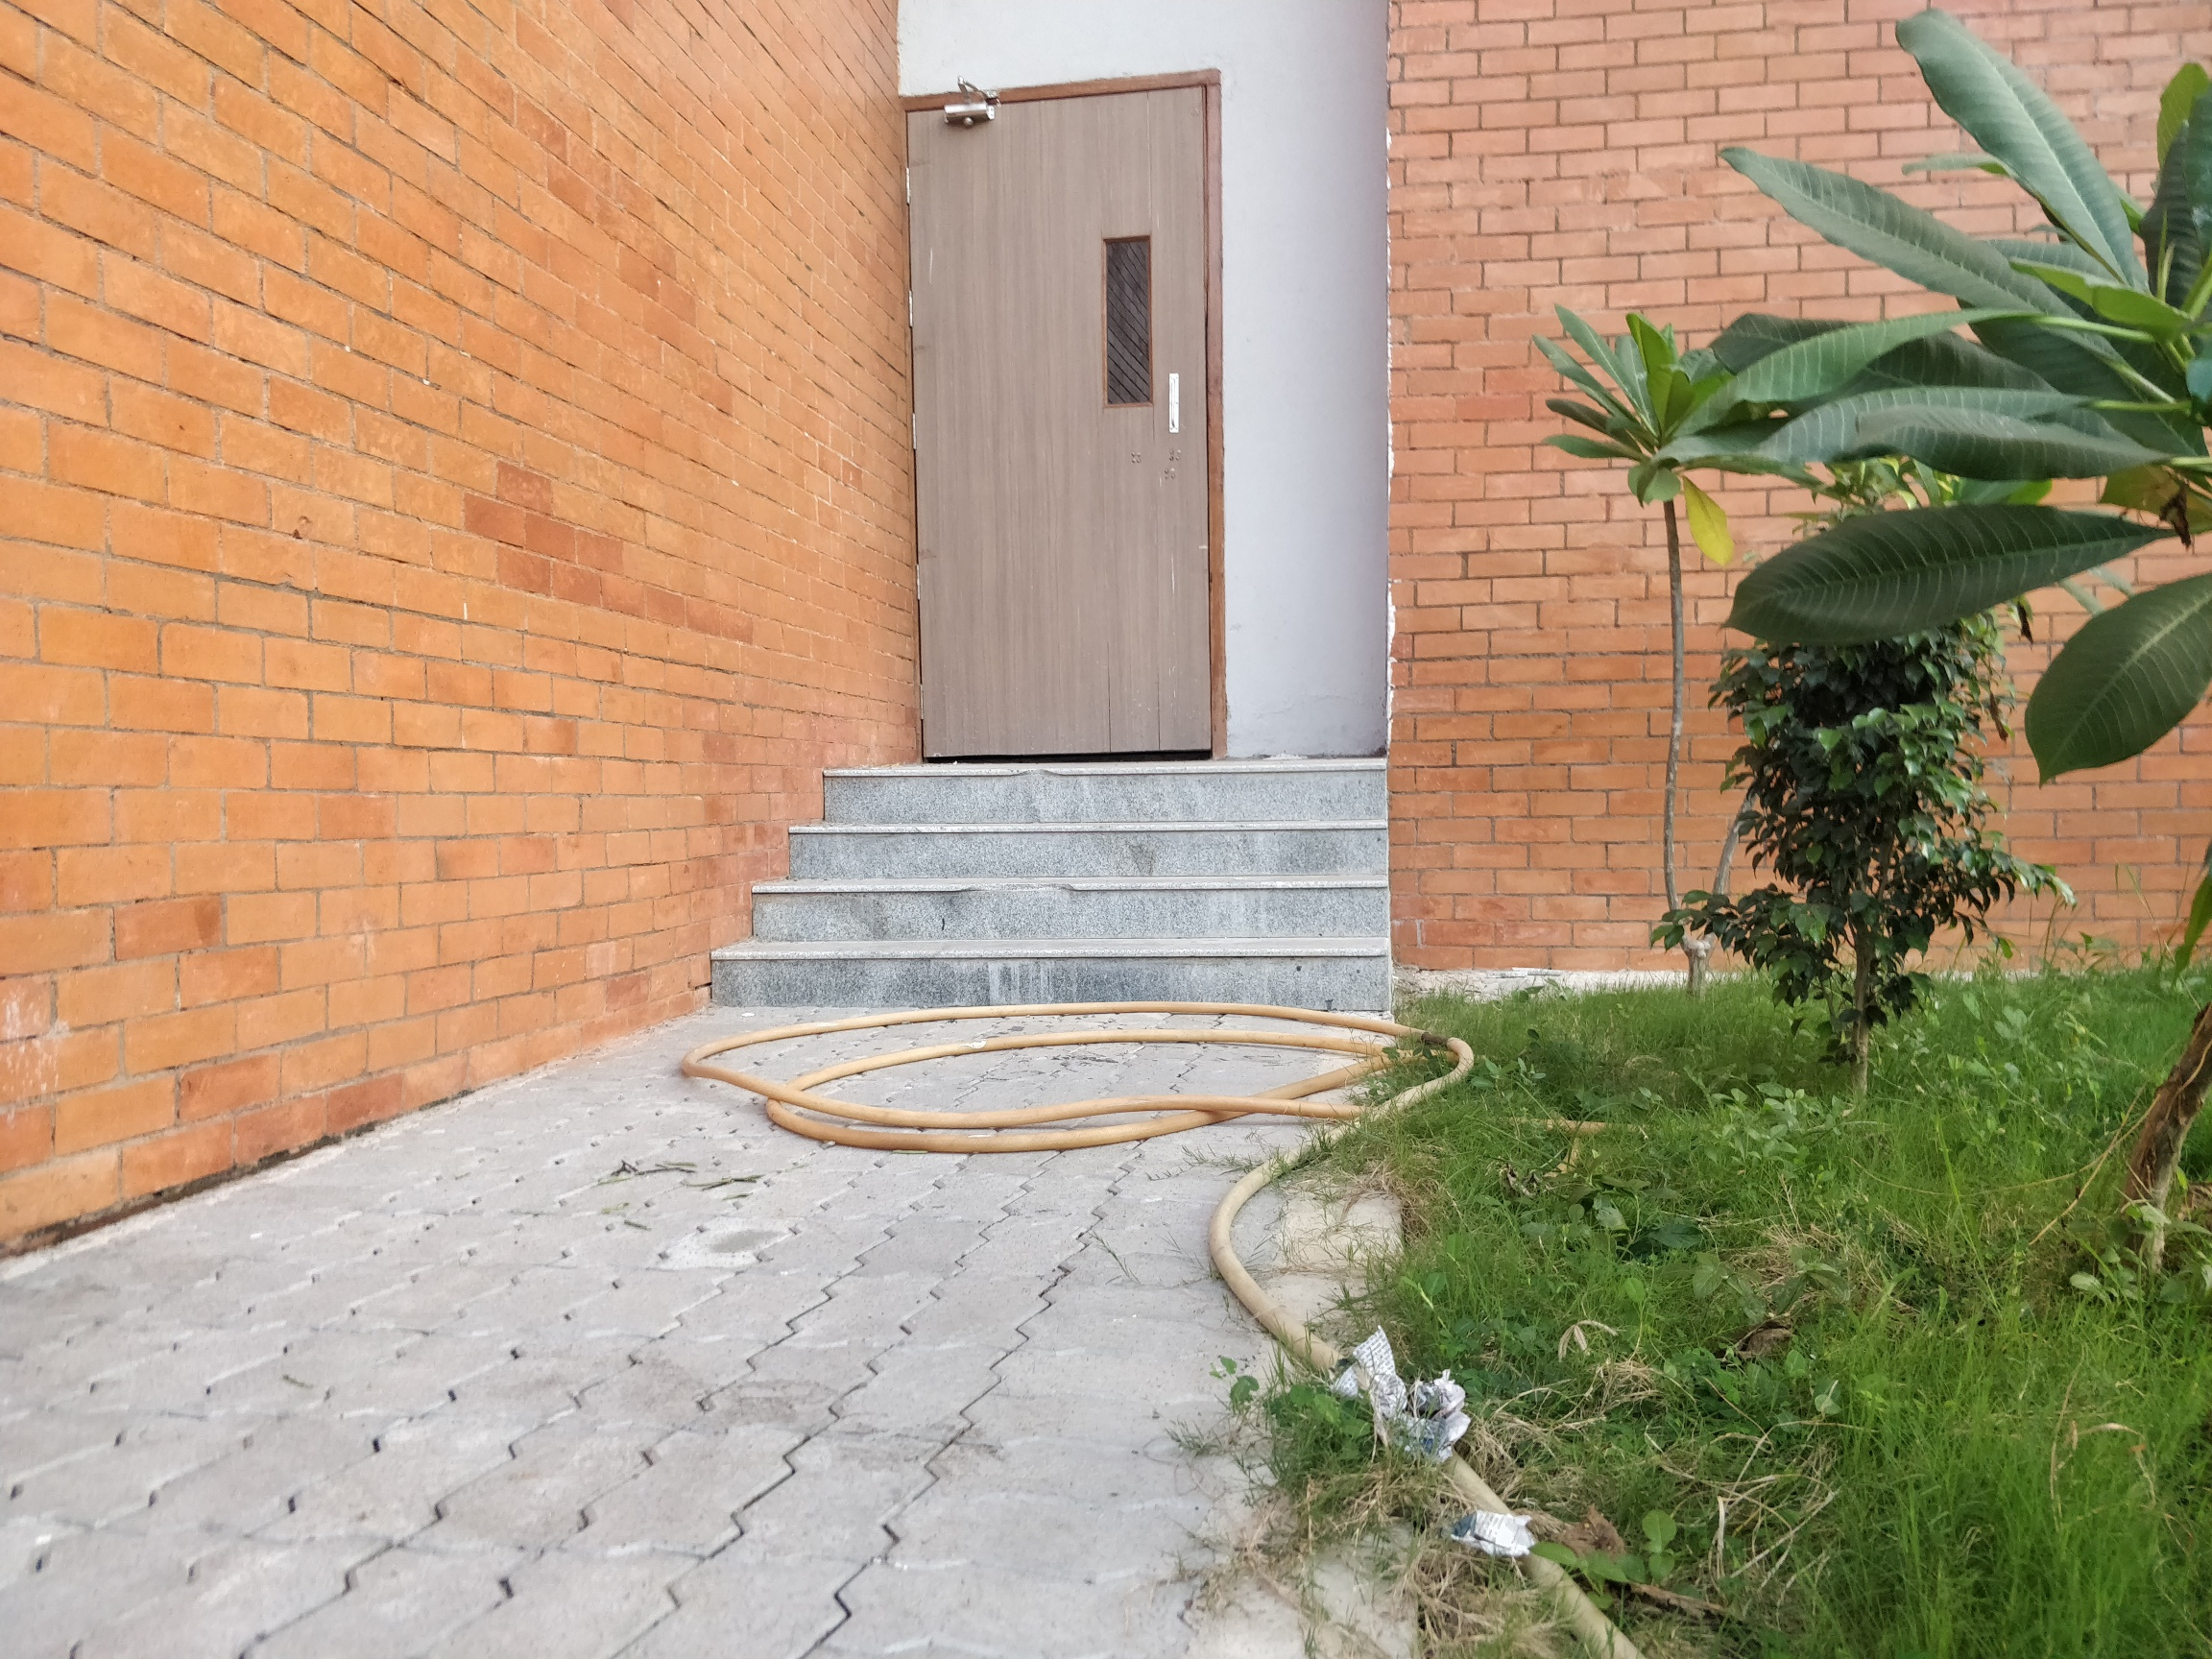stairs_up: (691, 753, 1395, 1035)
